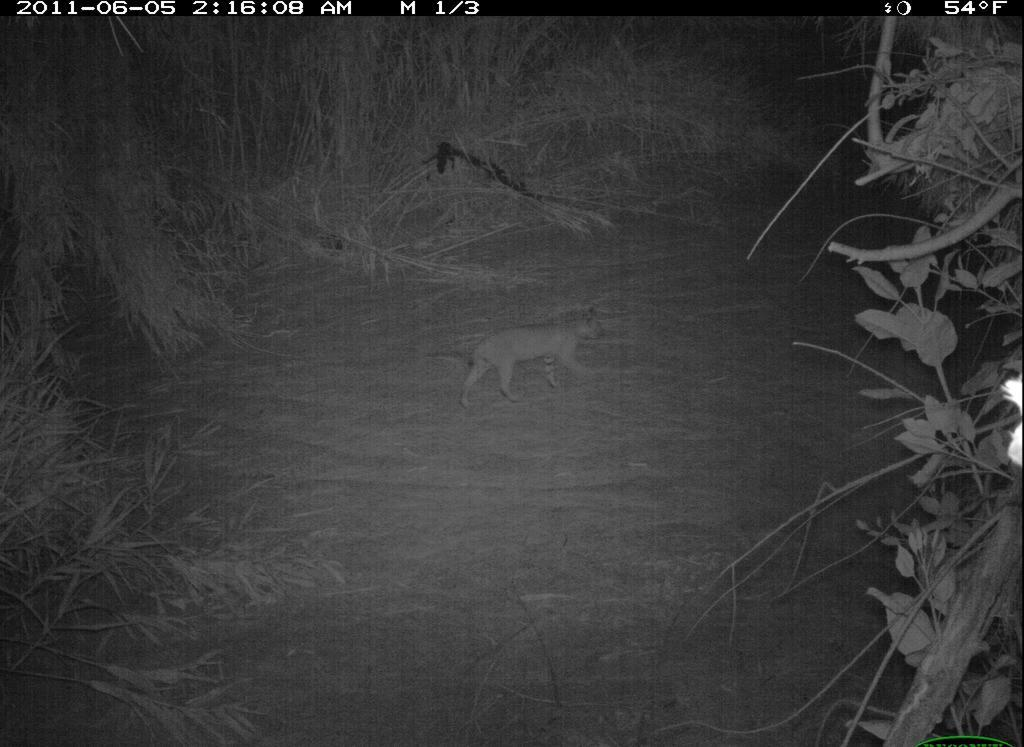bobcat: (456, 308, 614, 404)
